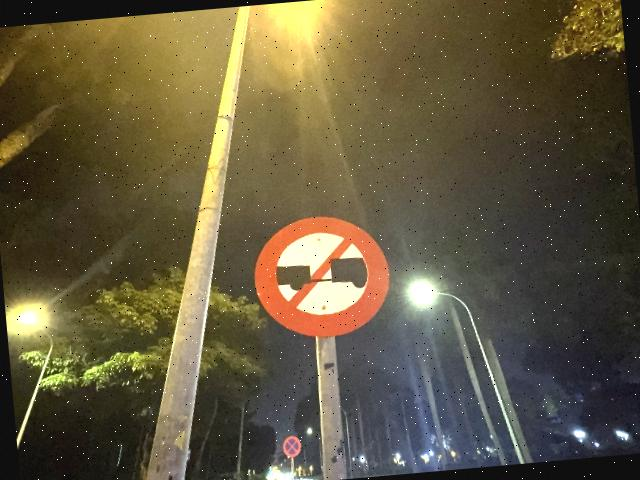cam-xe-somi-romooc: (248, 208, 394, 343)
